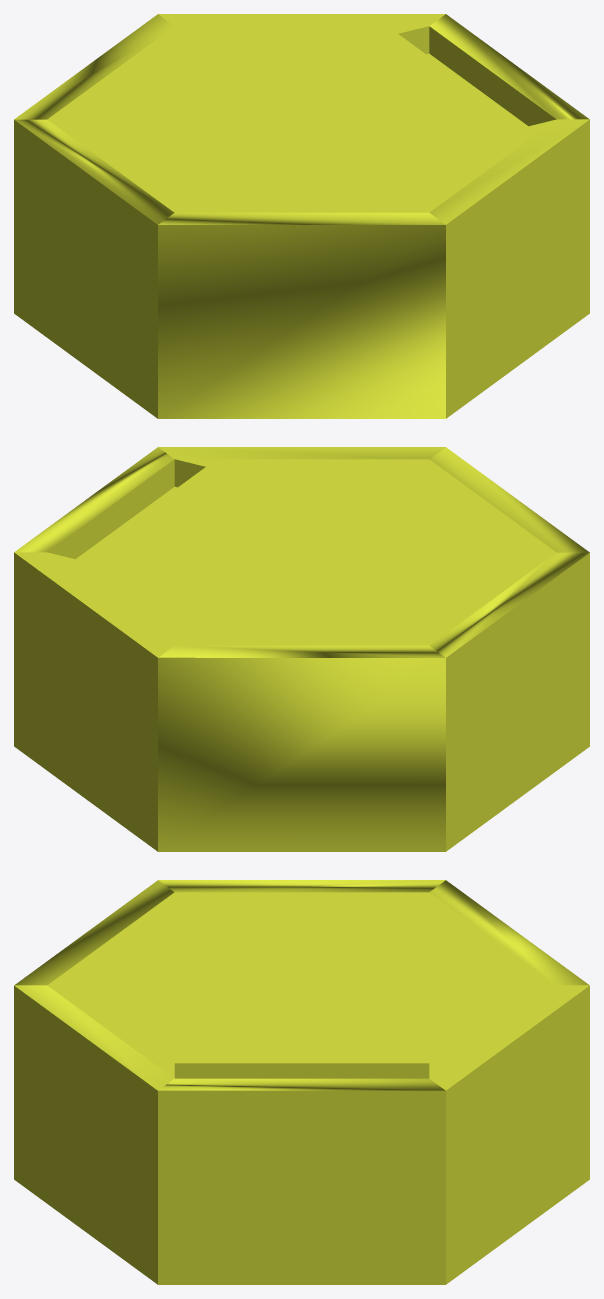
Rendered from Stage2_Door_1.fbx.
The picture shows the model from 3 angles, top to bottom: view 1: azimuth 30°, elevation 25°; view 2: azimuth 150°, elevation 25°; view 3: azimuth 270°, elevation 25°; orthographic projection.
Parts seen in each view (by area): view 1: Stage2_Door_1; view 2: Stage2_Door_1; view 3: Stage2_Door_1.
Part boxes in pixels (x1,y1,x2,y2): Stage2_Door_1: [14, 14, 589, 418]; Stage2_Door_1: [14, 447, 589, 851]; Stage2_Door_1: [14, 880, 589, 1284].
Size of the model in its own units: 173 by 74.42 by 200.
